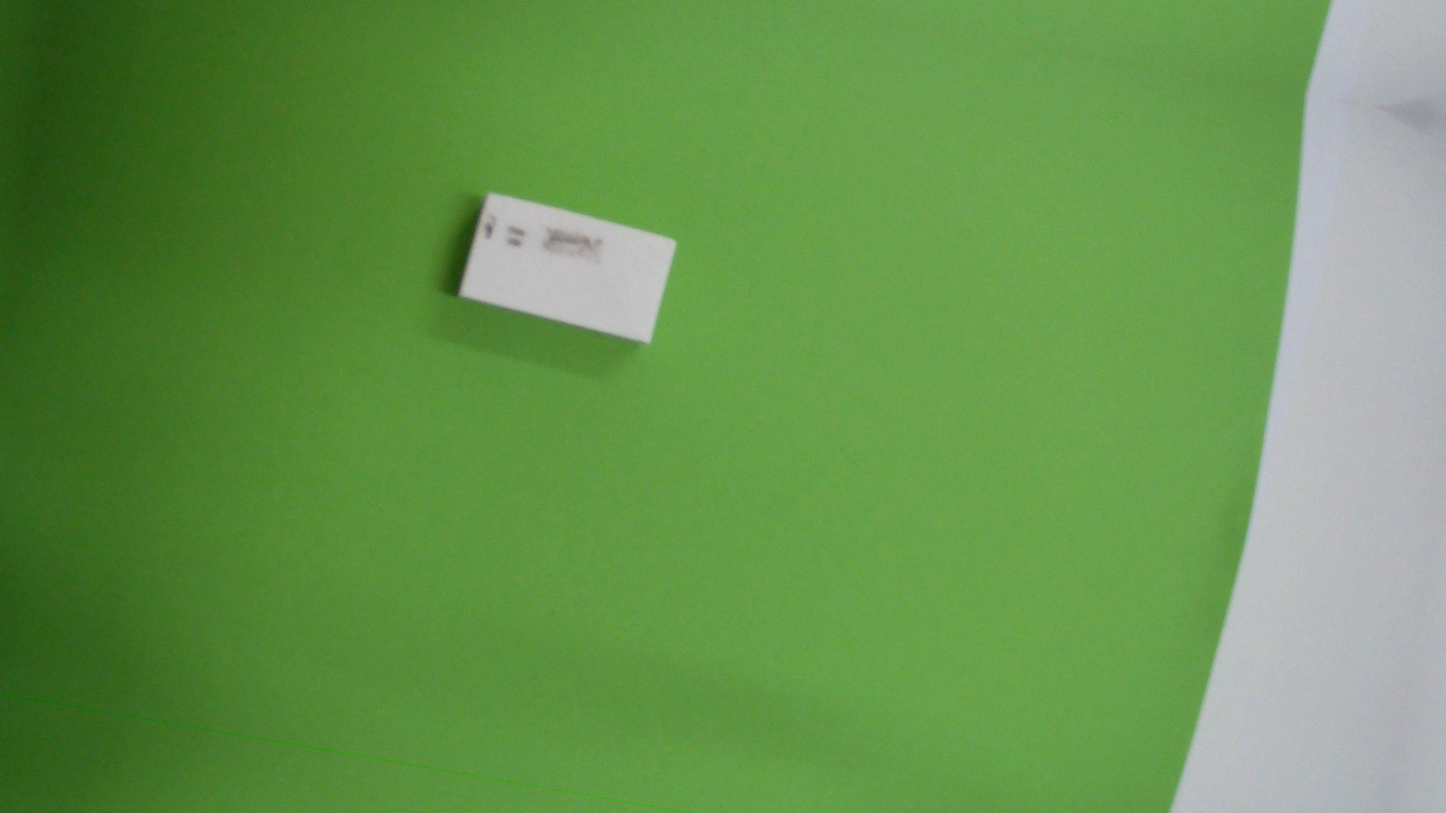gom: (450, 177, 682, 356)
